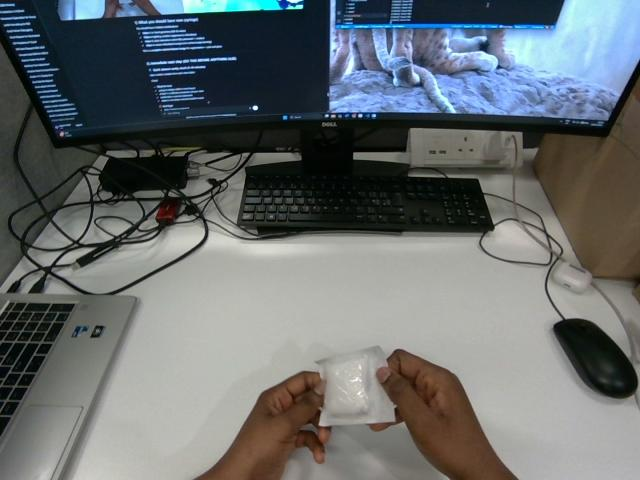gauze: (316, 346, 394, 425)
